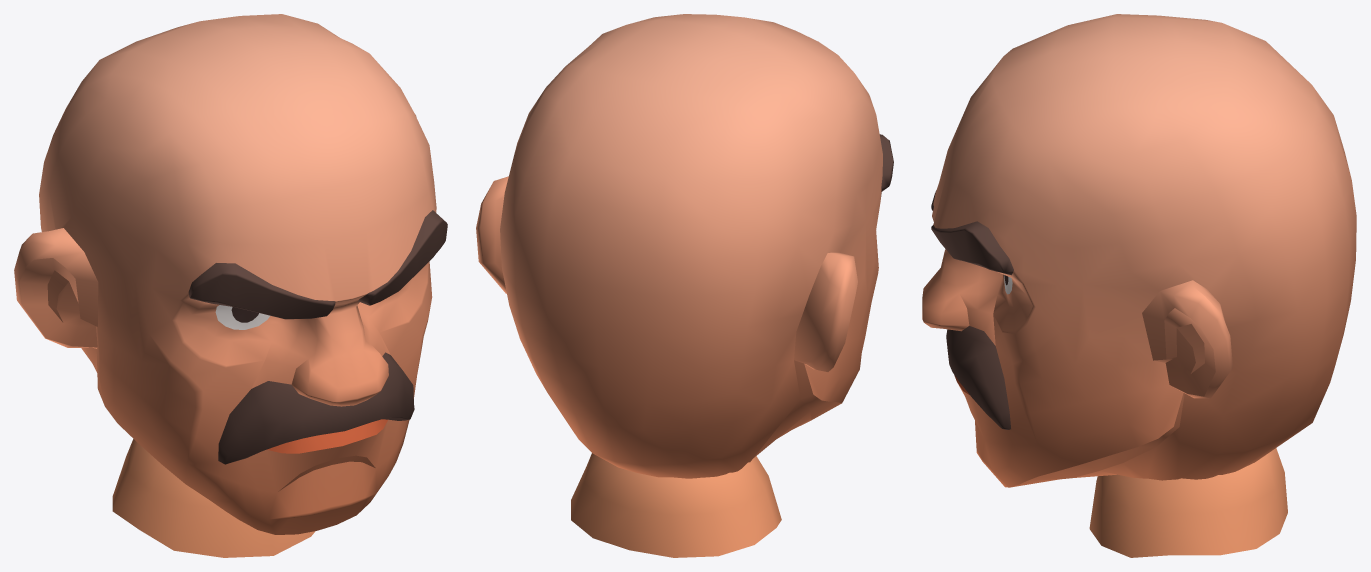
The model's file is Racer_Head_02.fbx.
3 renders of one model, left to right at view 1: azimuth 30°, elevation 25°; view 2: azimuth 150°, elevation 25°; view 3: azimuth 270°, elevation 25°, orthographic. The views are drawn at different scales.
Parts seen in each view (by area): view 1: Racer_Head_02; view 2: Racer_Head_02; view 3: Racer_Head_02.
Boxes of the visible parts, box(x1,y1,x2,y2) form: Racer_Head_02: box(14, 14, 447, 557); Racer_Head_02: box(476, 14, 893, 557); Racer_Head_02: box(922, 14, 1356, 557).
Bounding box in the file's own units: 29.14 × 28.92 × 35.97.
